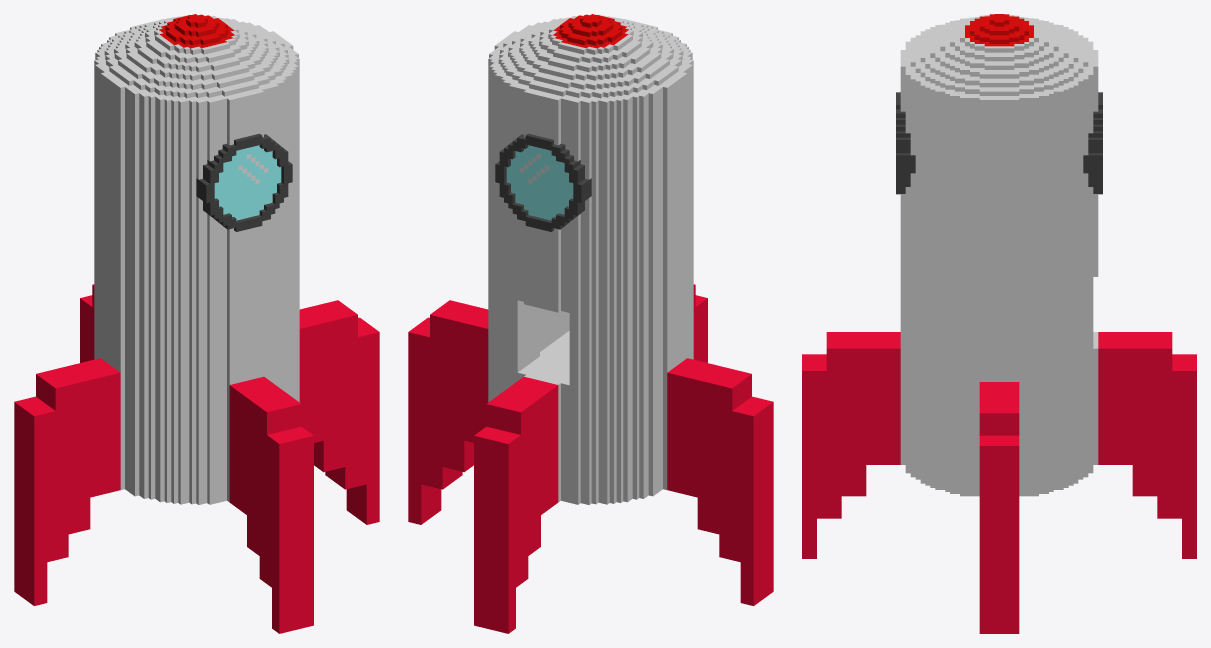
Rendered from Rocket2.obj.
The picture shows the model from 3 angles, left to right: view 1: azimuth 30°, elevation 25°; view 2: azimuth 150°, elevation 25°; view 3: azimuth 270°, elevation 25°; orthographic projection.
Size of the model in its own units: 8 by 11.9 by 8.
Materials: 1 (1 with a texture image).
